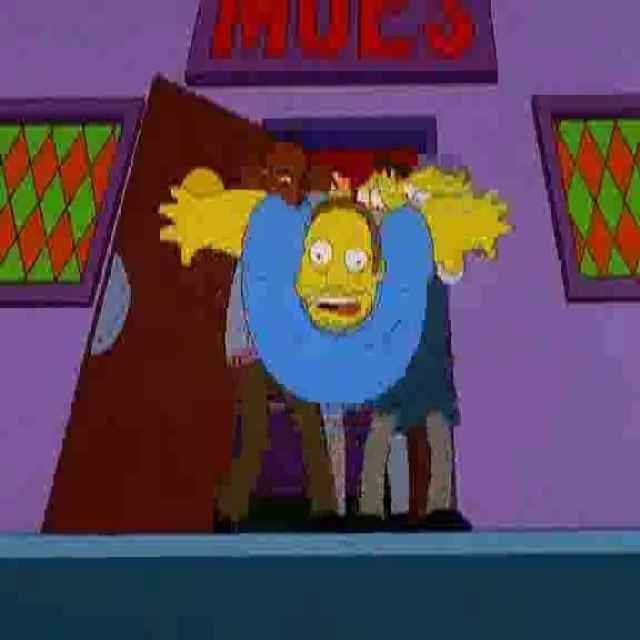Comic Book Guy: (294, 197, 390, 339)
